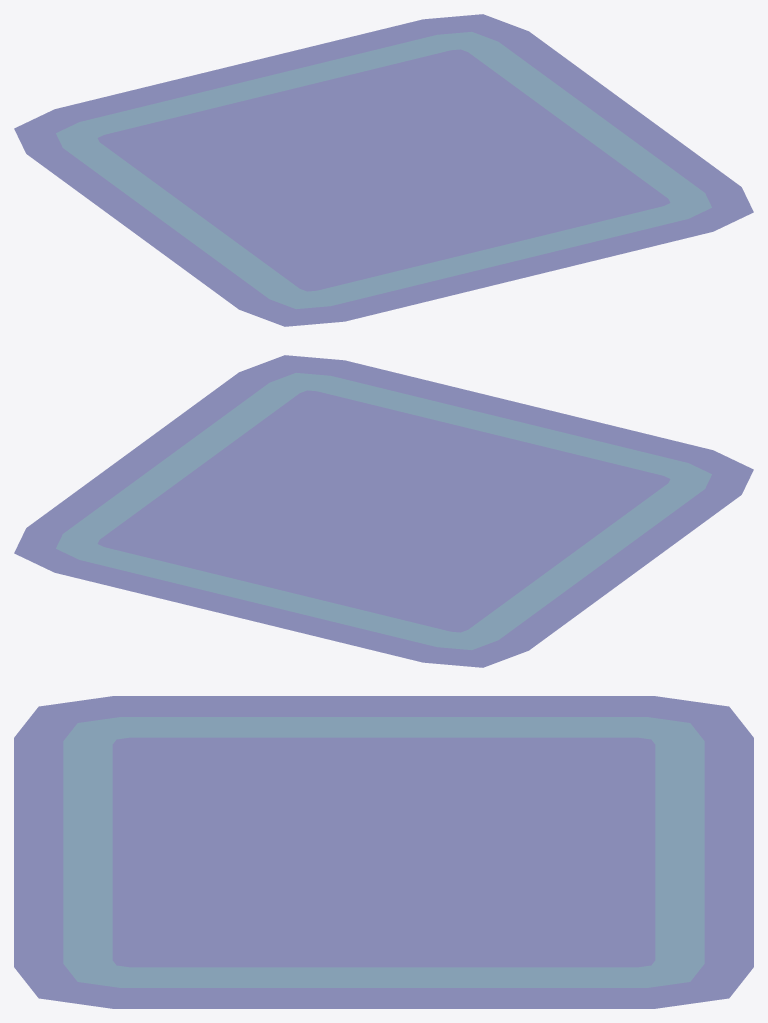
Rendered from carpet-rectangle-line-square.glb.
3 views of the same model, one above another, from view 1: azimuth 30°, elevation 25°; view 2: azimuth 150°, elevation 25°; view 3: azimuth 270°, elevation 25° (orthographic). The views are drawn at different scales.
Visible parts, largest first — view 1: carpet-rectangle-line-square; view 2: carpet-rectangle-line-square; view 3: carpet-rectangle-line-square.
Part boxes in pixels (x1,y1,x2,y2): carpet-rectangle-line-square: [14, 14, 753, 326]; carpet-rectangle-line-square: [14, 355, 753, 667]; carpet-rectangle-line-square: [14, 696, 753, 1008].
Size of the model in its own units: 1.5 by 0 by 1.5.
